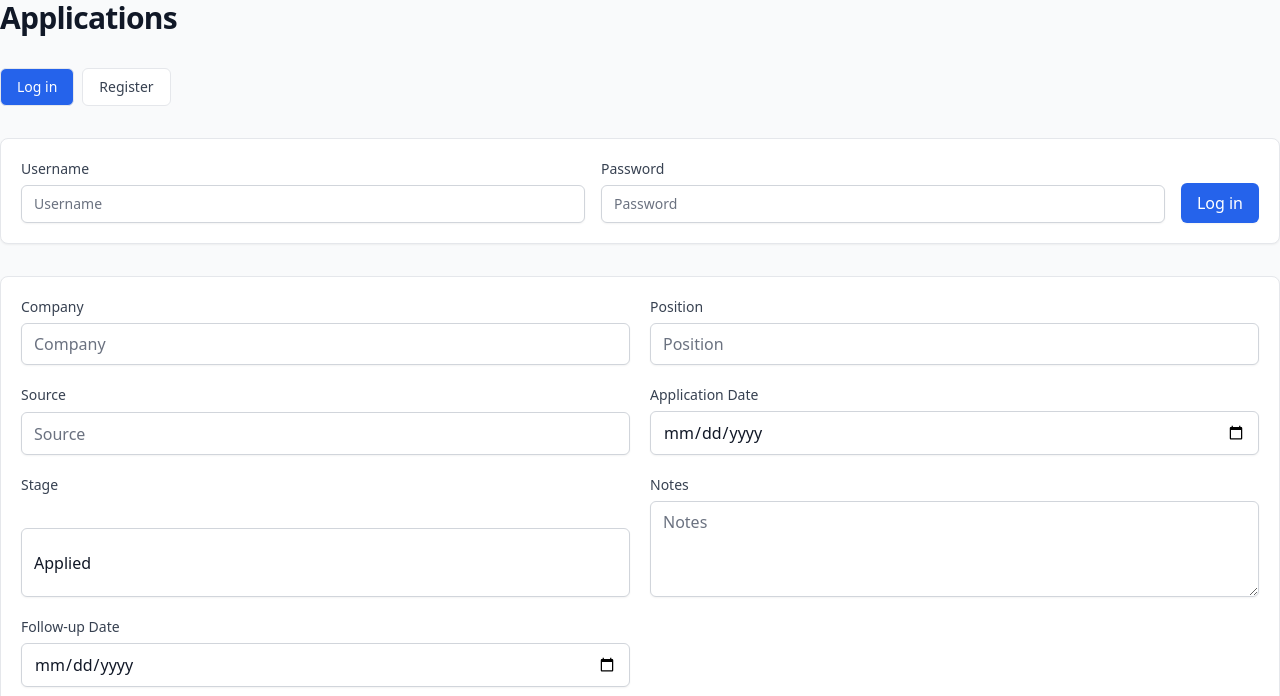
Scenario: ApplicationsView › shows a success message after login
This screenshot has width=1280, height=696.
Type "new-user" into the field with placeholder "Username" at (303, 204), box [21,185,585,223]
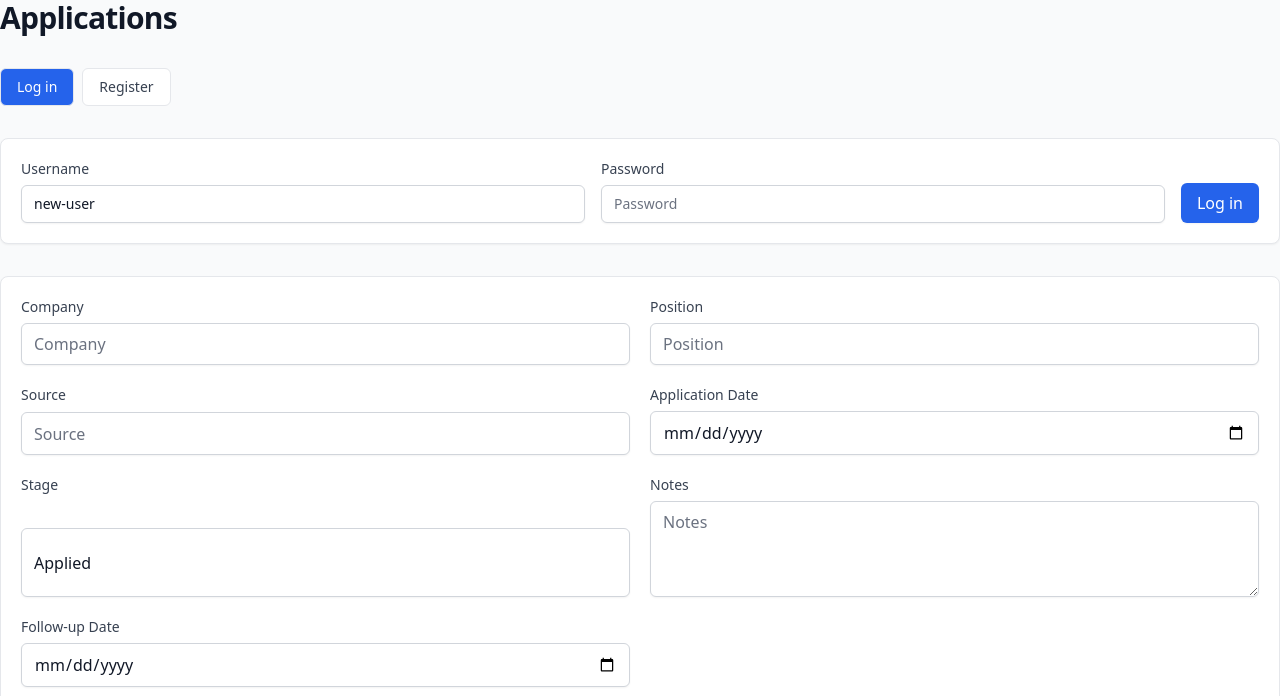
Type "password" into the password field with placeholder "Password" at (883, 204), box [601,185,1165,223]
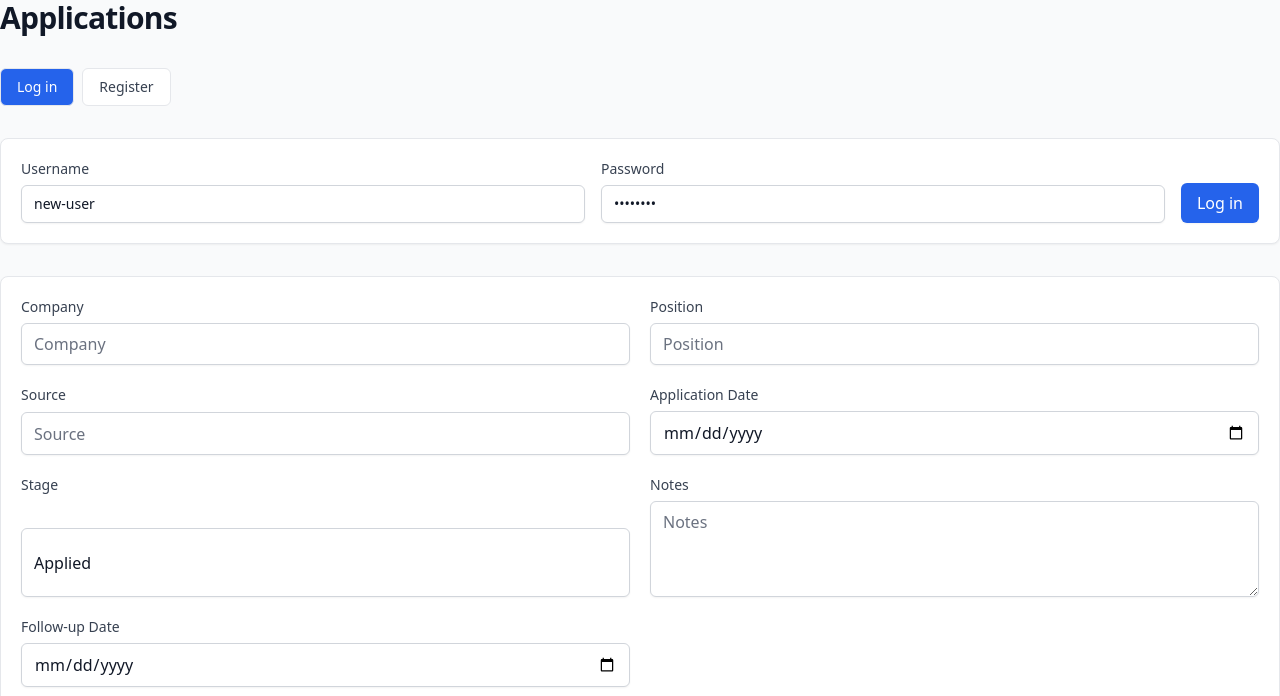
Submit the form with test id "login-form", box [0,138,1279,244]
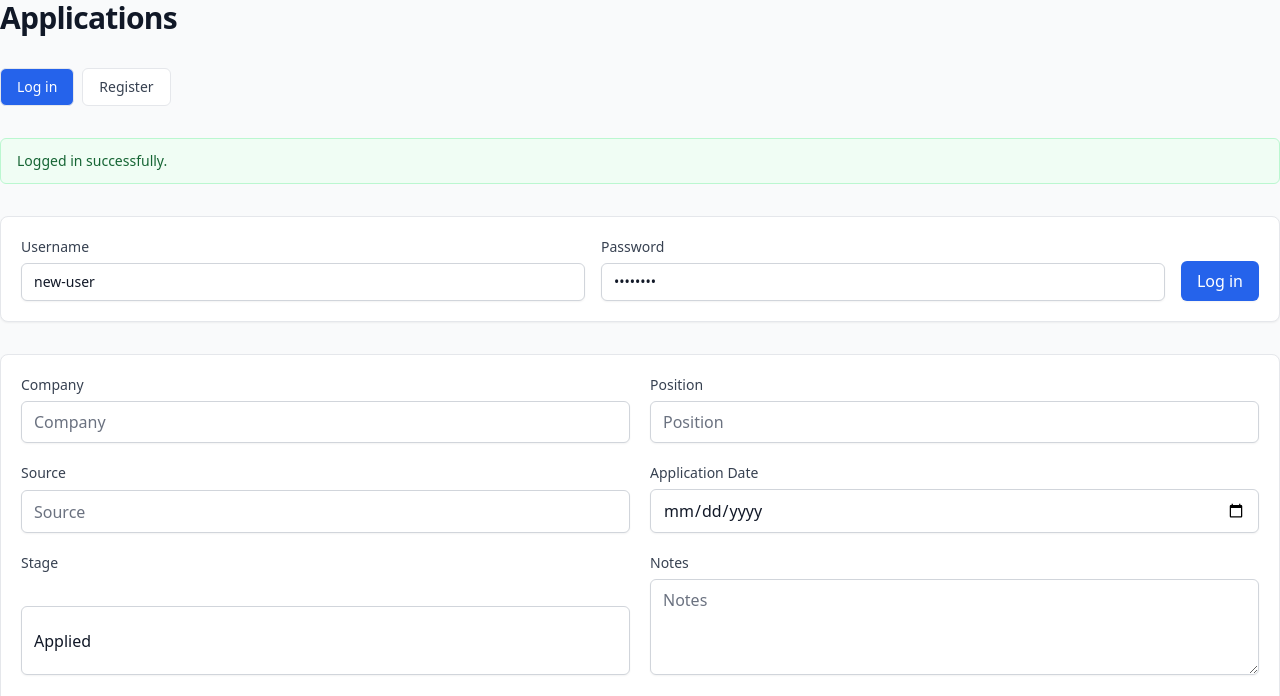
Now the message "Logged in successfully." is shown, box [0,138,1279,184]
